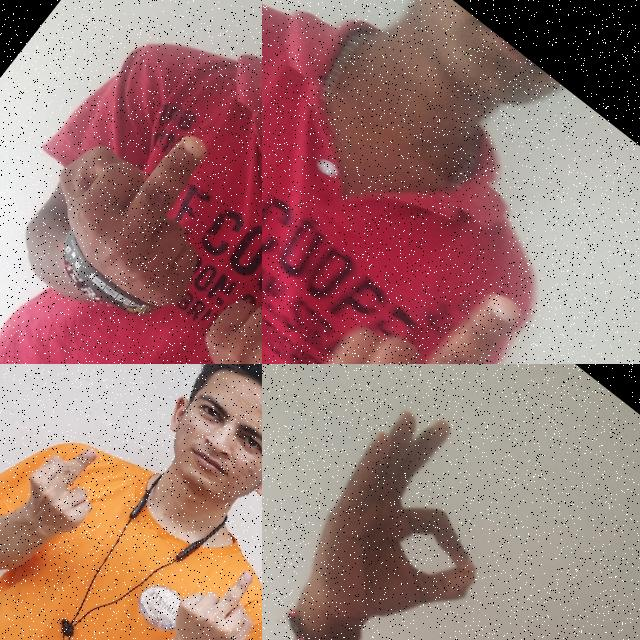Middle Finger: (0, 75, 262, 353), (262, 226, 574, 364), (0, 417, 131, 557), (170, 215, 262, 364), (149, 540, 262, 640)
Okay: (262, 386, 548, 640)
